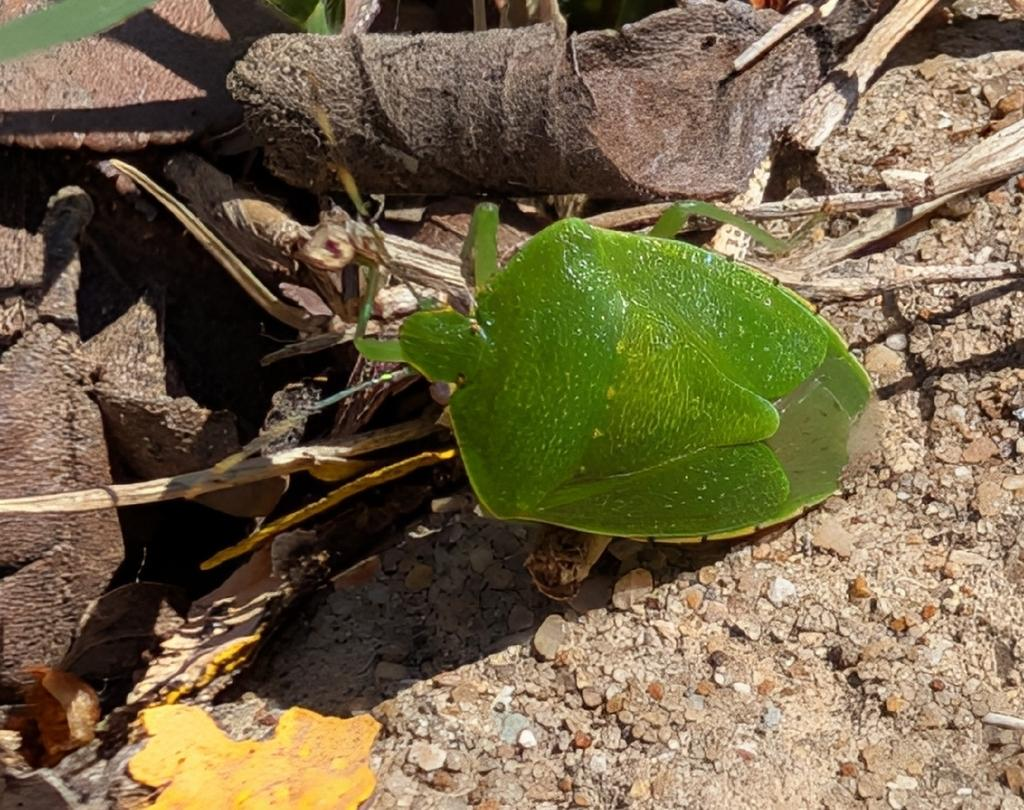stink_bugs: (195, 62, 962, 600)
